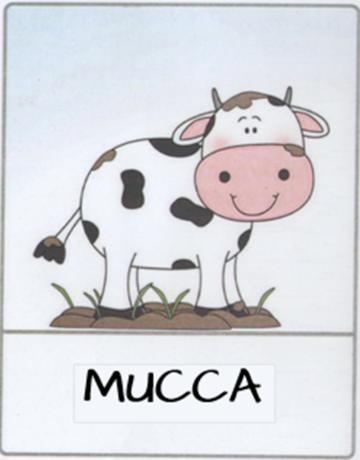mucca: (1, 2, 360, 460)
